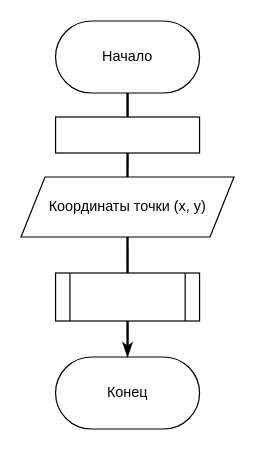
The diagram is 256 pixels wide and 450 high, and some of its shapes have lost their labels. The shapes that lost their labels are listed below. From the top down, each one's centre as x and y in pixels, then its label:
pixel 127 134: x = 0, y = 0;
pixel 127 296: check
